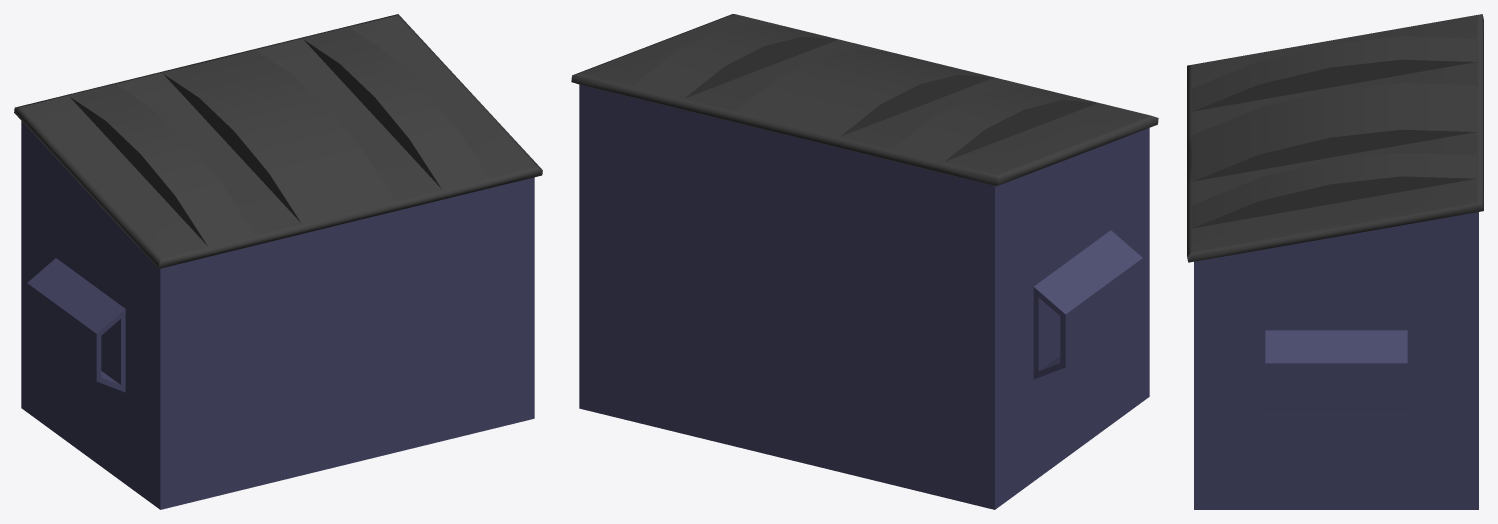
File: PS_TrashBinBig.fbx
3 views of the same model, side by side, from view 1: azimuth 30°, elevation 25°; view 2: azimuth 150°, elevation 25°; view 3: azimuth 270°, elevation 25° (orthographic). The views are drawn at different scales.
Visible parts, largest first — view 1: PS_TrashBinBig; view 2: PS_TrashBinBig; view 3: PS_TrashBinBig.
Boxes of the visible parts, <box> form: PS_TrashBinBig: <box>14,14,542,509</box>; PS_TrashBinBig: <box>571,14,1158,509</box>; PS_TrashBinBig: <box>1187,14,1483,509</box>.
Bounding box in the file's own units: 2.31 × 1.55 × 1.34.
